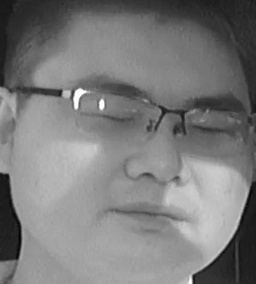blink: (188, 120, 224, 137), (98, 111, 134, 126)
glass: (69, 87, 165, 148), (181, 104, 255, 156)
mouth: (104, 200, 183, 236)
